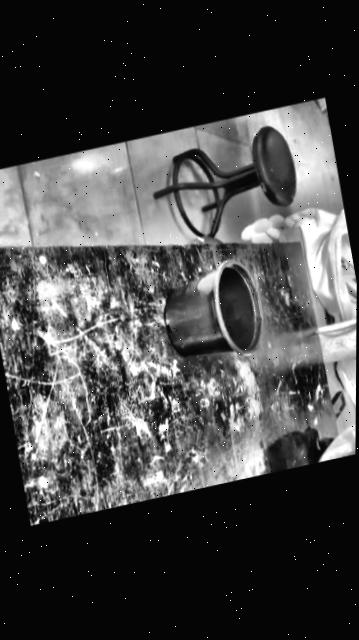pot: (156, 259, 265, 373)
